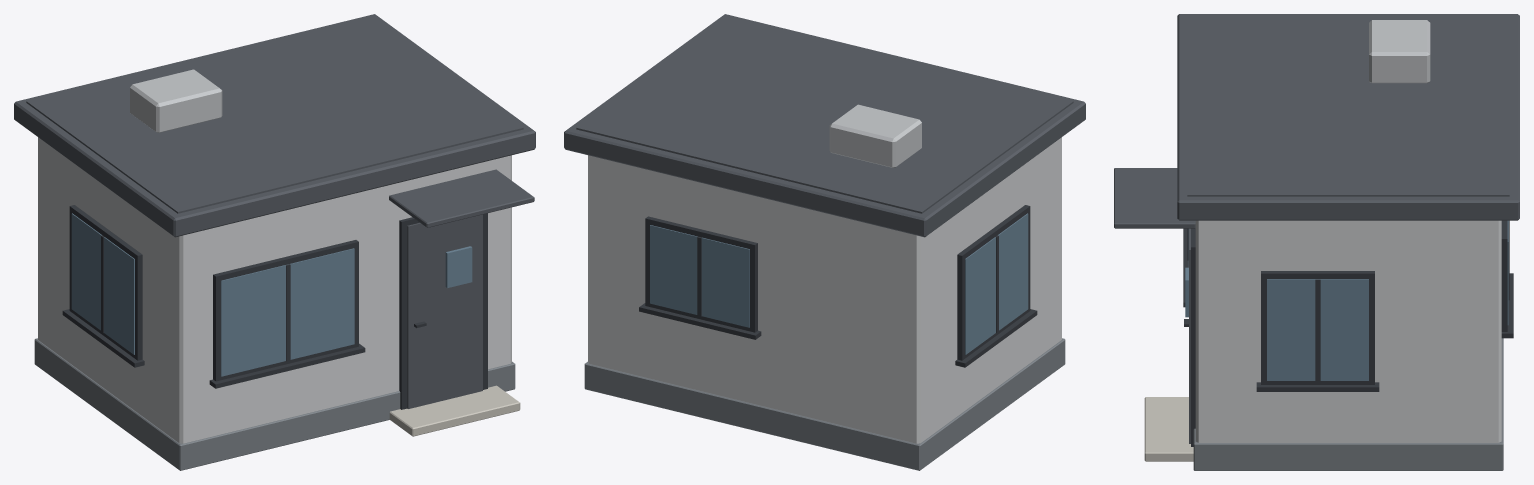
The model's file is office_booth.glb.
The picture shows the model from 3 angles, left to right: view 1: azimuth 30°, elevation 25°; view 2: azimuth 150°, elevation 25°; view 3: azimuth 270°, elevation 25°; orthographic projection. The views are drawn at different scales.
Parts seen in each view (by area): view 1: OfficeBooth; view 2: OfficeBooth; view 3: OfficeBooth.
Boxes of the visible parts, x1=… form: OfficeBooth: x1=14, y1=14, x2=535, y2=470; OfficeBooth: x1=564, y1=14, x2=1085, y2=470; OfficeBooth: x1=1114, y1=14, x2=1519, y2=470.
Size of what is drawn, in the model's own units: 4.36 by 3.35 by 3.98.
